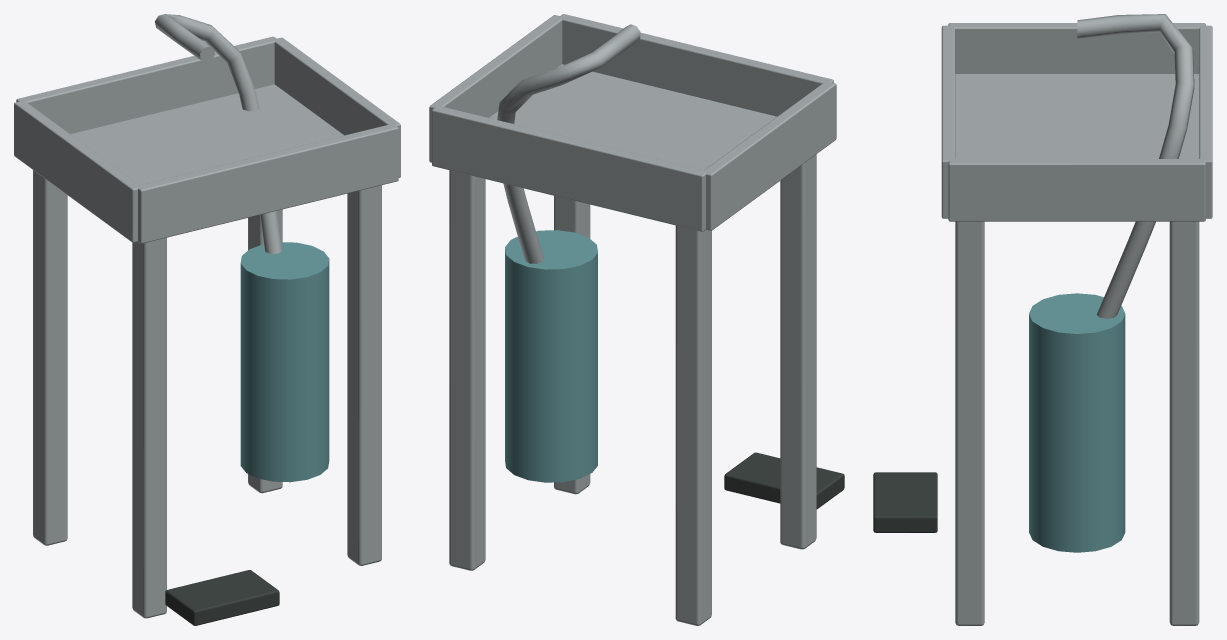
Rendered from flooded-and-coastal-survival-foot-wash-station-4b4cb59f__20070.glb.
3 renders of one model, left to right at view 1: azimuth 30°, elevation 25°; view 2: azimuth 150°, elevation 25°; view 3: azimuth 270°, elevation 25°, orthographic. The views are drawn at different scales.
Parts seen in each view (by area): view 1: foot-wash-station; view 2: foot-wash-station; view 3: foot-wash-station.
Boxes of the visible parts, x1,y1,x2,y2 form: foot-wash-station: (14,14,400,625); foot-wash-station: (429,14,844,625); foot-wash-station: (873,14,1212,625).
Size of the model in its own units: 0.625 by 1.13 by 0.6325.
